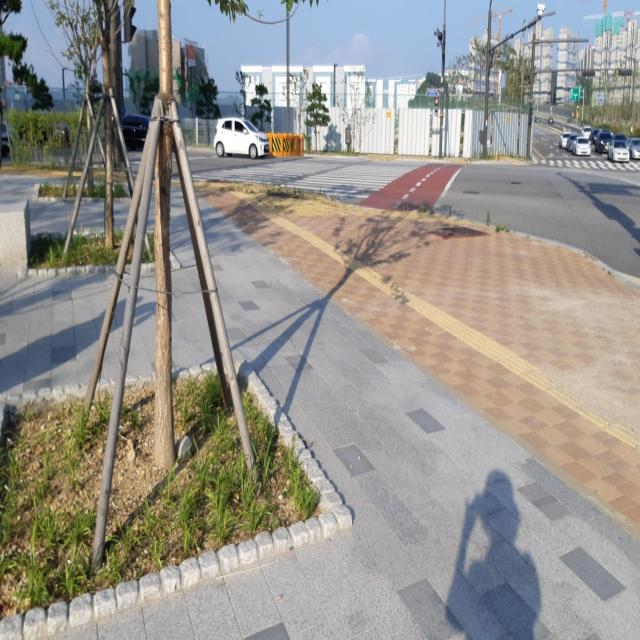빨간불: (434, 94, 440, 118)
횡단보도: (175, 157, 430, 200)
